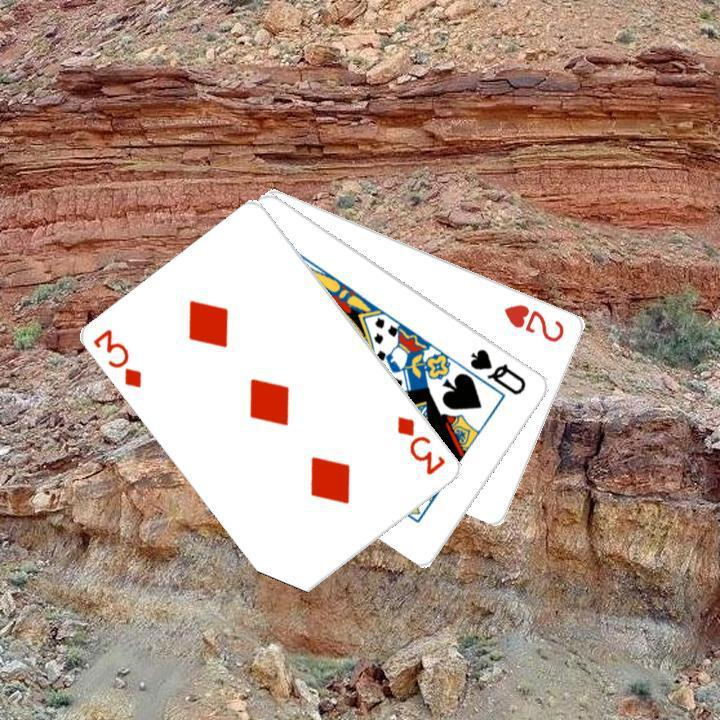2: (500, 299, 567, 344)
3: (393, 411, 449, 478), (89, 324, 145, 391)
Q: (466, 344, 529, 397)
